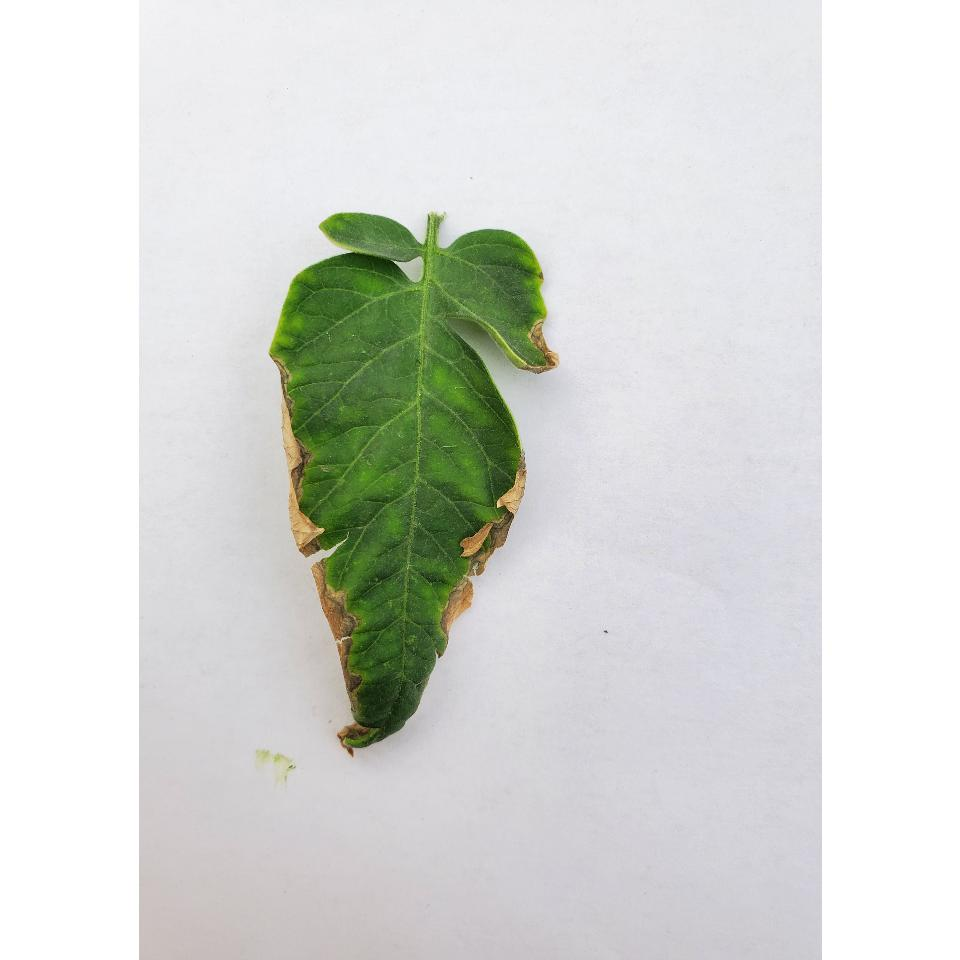tomato_bacterial_blight: (284, 147, 542, 751)
